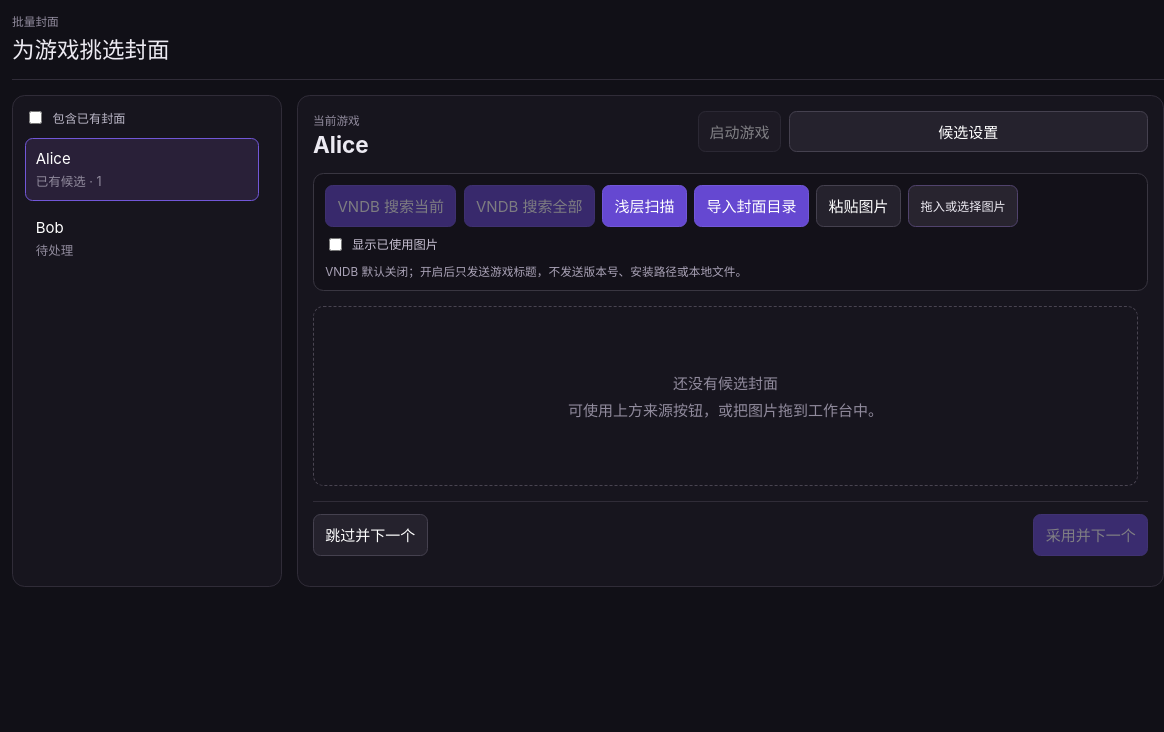
Scenario: CoverWizardWorkspace › returns the candidate gallery to the top after selecting another game
Click the button with class "cover-queue-item" showing "Bob 待处理" at (142, 238), box [25,207,259,269]
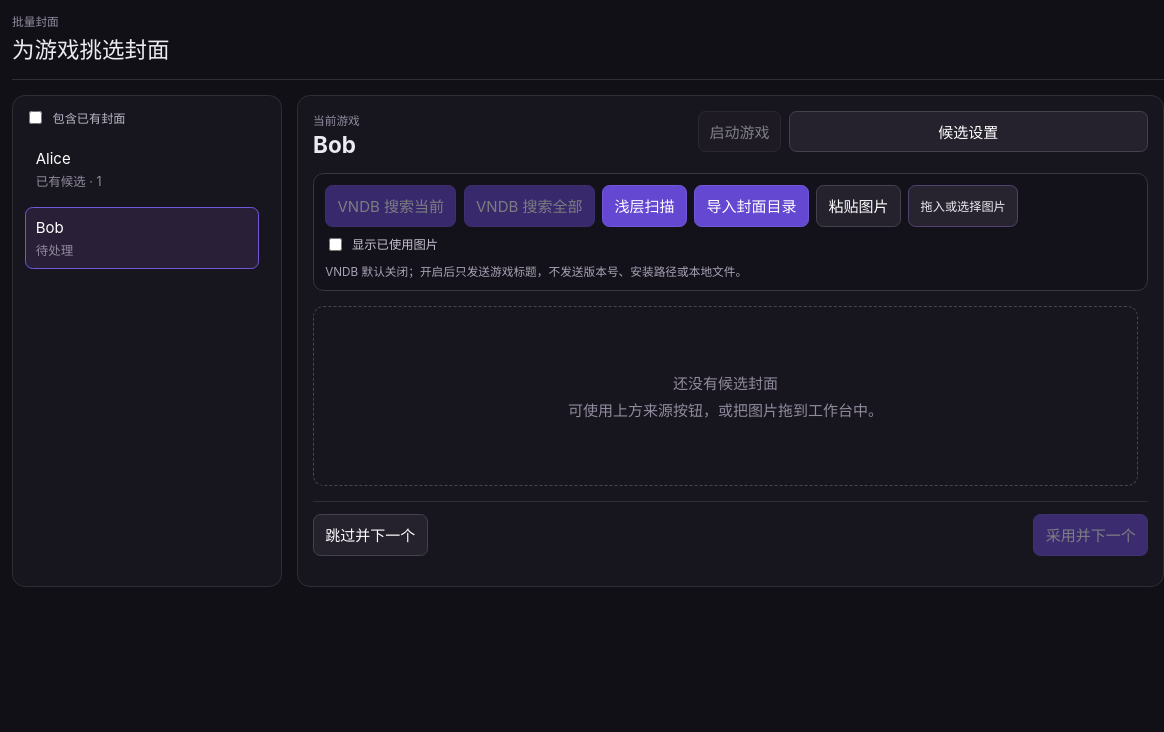
expect the heading "Bob" is shown: met, box [313,131,356,158]
